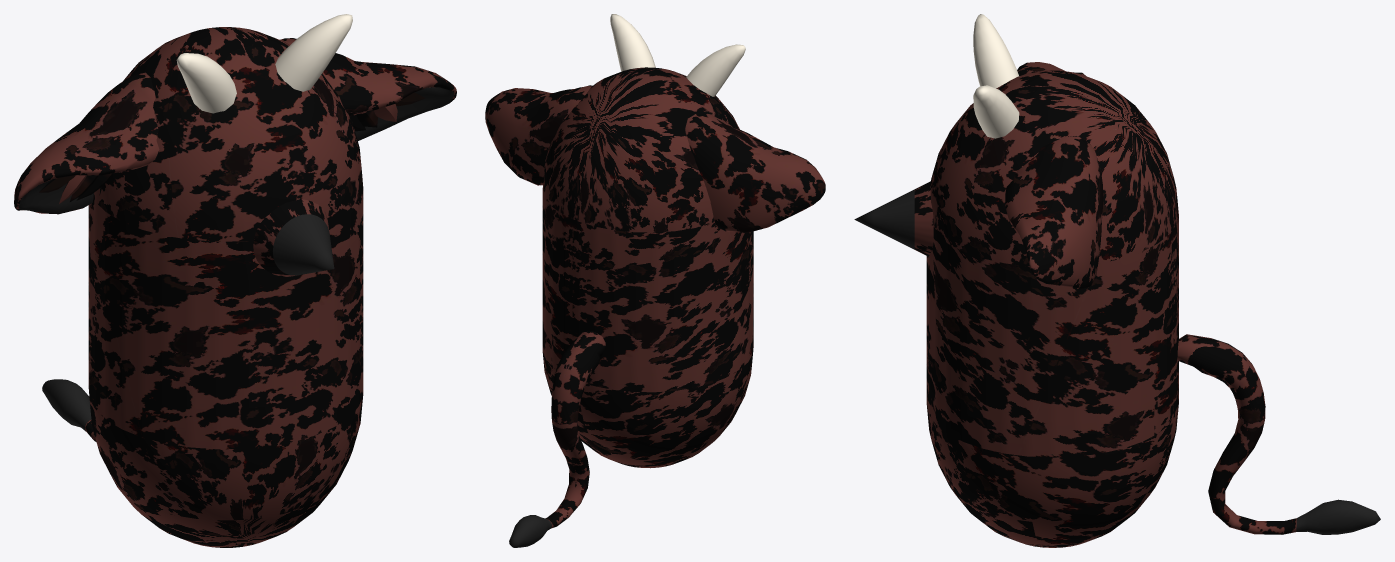
Rendered from NPC_Cow.fbx.
3 renders of one model, left to right at view 1: azimuth 30°, elevation 25°; view 2: azimuth 150°, elevation 25°; view 3: azimuth 270°, elevation 25°, orthographic. The views are drawn at different scales.
Visible parts, largest first — view 1: Cow; view 2: Cow; view 3: Cow.
Boxes of the visible parts, x1,y1,x2,y2 form: Cow: [14, 14, 456, 547]; Cow: [485, 14, 825, 547]; Cow: [854, 14, 1380, 547].
Size of the model in its own units: 1.85 by 2.13 by 2.09.
